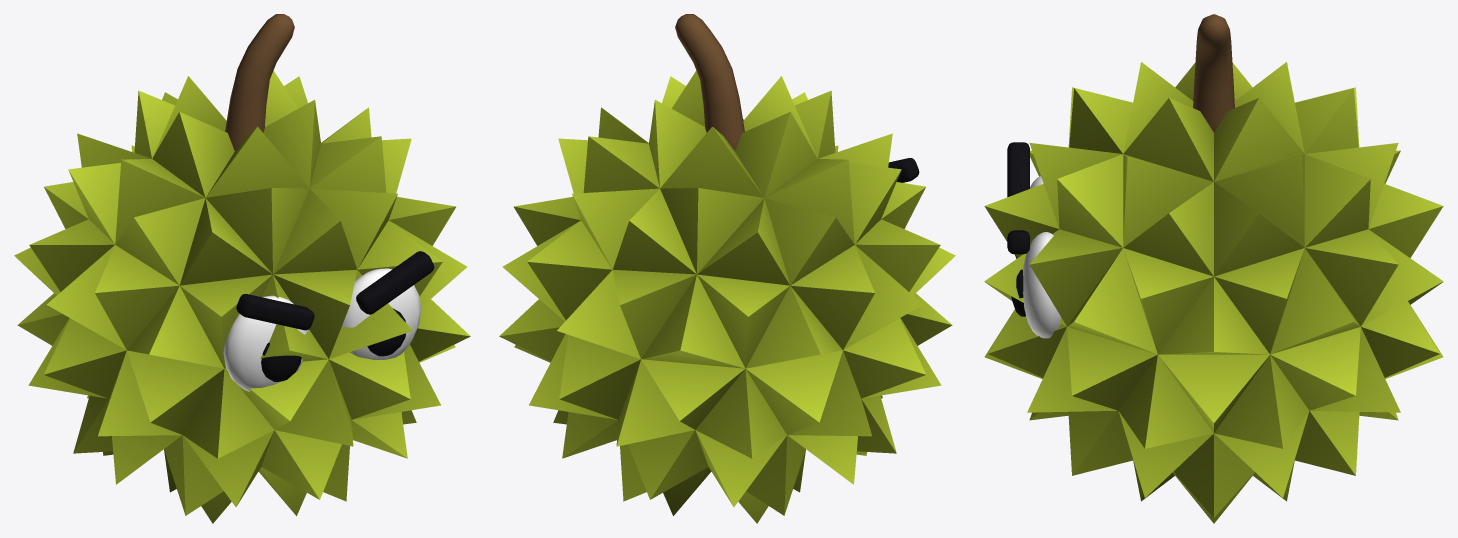
The model's file is durian.glb.
3 views of the same model, side by side, from view 1: azimuth 30°, elevation 25°; view 2: azimuth 150°, elevation 25°; view 3: azimuth 270°, elevation 25° (orthographic). The views are drawn at different scales.
Parts seen in each view (by area): view 1: Durian; view 2: Durian; view 3: Durian.
Boxes of the visible parts, x1,y1,x2,y2 form: Durian: (14,14,470,523); Durian: (499,14,955,523); Durian: (984,14,1443,523).
Bounding box in the file's own units: 1.06 × 1.2 × 1.01.
